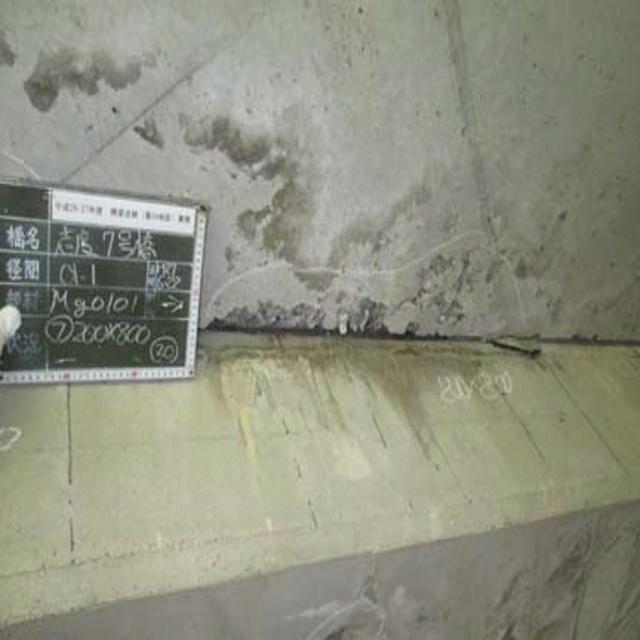spalling: (200, 253, 553, 381)
